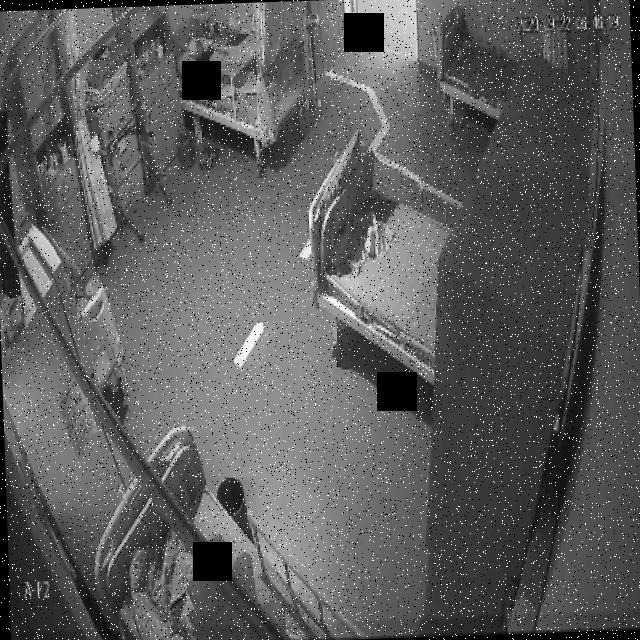bed: (87, 420, 335, 640), (302, 142, 436, 392), (180, 36, 312, 178), (431, 0, 501, 134)
walker: (104, 98, 174, 246)
